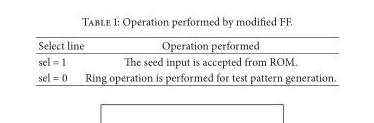table: (37, 37, 335, 84)
table column: (83, 37, 335, 84), (37, 37, 83, 84)
table column header: (37, 37, 335, 53)
table row: (37, 37, 335, 53), (37, 68, 335, 84), (37, 53, 335, 68)
